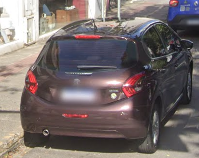car: (21, 16, 193, 153)
